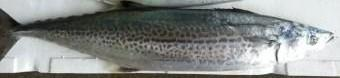fish: (0, 1, 334, 72)
